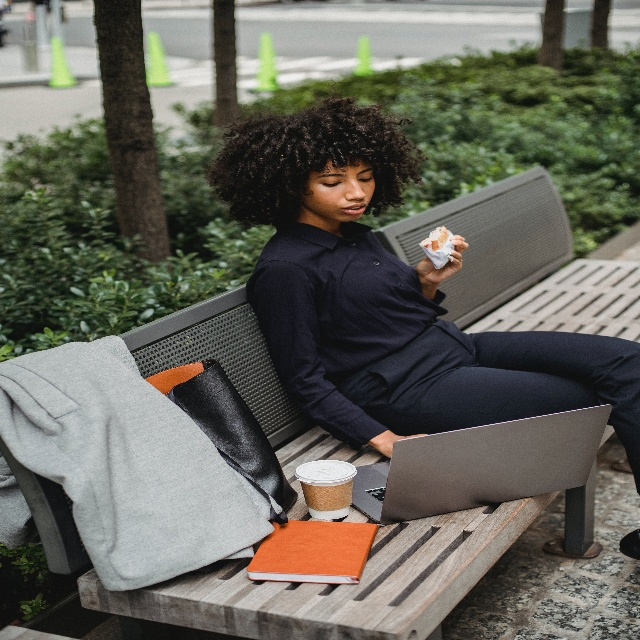Sin_guantes: (416, 235, 469, 283)
